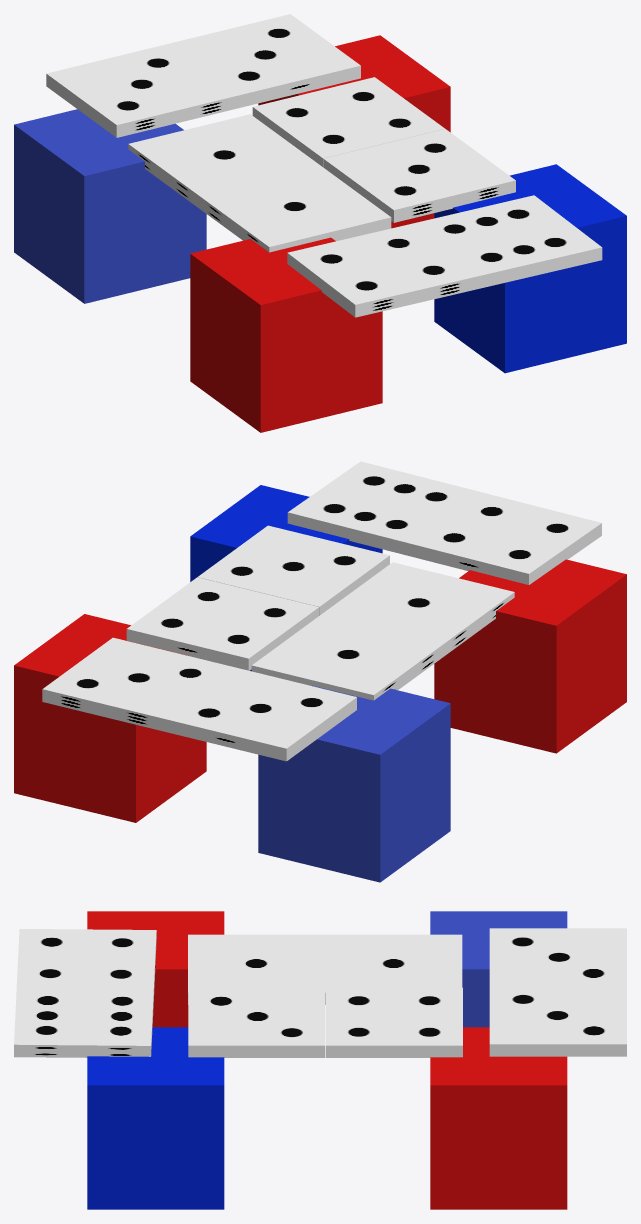
The model's file is blocks_6.glb.
3 renders of one model, top to bottom at view 1: azimuth 30°, elevation 25°; view 2: azimuth 150°, elevation 25°; view 3: azimuth 270°, elevation 25°, orthographic. The views are drawn at different scales.
Parts seen in each view (by area): view 1: Cube.008, Cube.010, Cube.009, Cube.004, Cube.002, Cube.006, Cube, Cube.001, Cube.003, Cube.005, Cube.007, Cube.011; view 2: Cube.010, Cube.008, Cube.011, Cube.004, Cube.002, Cube.007, Cube.003, Cube.005, Cube.001, Cube, Cube.006, Cube.009; view 3: Cube.009, Cube.011, Cube.003, Cube.006, Cube.001, Cube.007, Cube.004, Cube.002, Cube, Cube.005, Cube.008, Cube.010.
Part boxes in pixels (x1,y1,x2,y2): Cube.008: (190, 237, 382, 432); Cube.010: (14, 109, 206, 303); Cube.009: (434, 164, 626, 373); Cube.004: (46, 44, 238, 137); Cube.002: (287, 224, 478, 317); Cube.006: (323, 129, 515, 222); Cube: (198, 165, 391, 252); Cube.001: (411, 195, 602, 288); Cube.003: (168, 14, 360, 107); Cube.005: (128, 114, 320, 207); Cube.007: (252, 77, 444, 166); Cube.011: (258, 35, 450, 228); Cube.010: (258, 685, 450, 882); Cube.008: (434, 559, 626, 753); Cube.011: (14, 614, 206, 822); Cube.004: (164, 667, 356, 761); Cube.002: (408, 492, 601, 584); Cube.007: (126, 577, 319, 670); Cube.003: (42, 637, 234, 731); Cube.005: (251, 614, 444, 700); Cube.001: (287, 461, 480, 555); Cube: (322, 562, 514, 655); Cube.006: (197, 525, 389, 615); Cube.009: (190, 485, 382, 671); Cube.009: (87, 1027, 224, 1209); Cube.011: (430, 1027, 567, 1209); Cube.003: (489, 986, 626, 1056); Cube.006: (188, 987, 325, 1057); Cube.001: (14, 987, 153, 1057); Cube.007: (326, 987, 462, 1057); Cube.004: (489, 928, 626, 986); Cube.002: (16, 929, 156, 993); Cube: (188, 934, 325, 1004); Cube.005: (325, 934, 462, 1004); Cube.008: (87, 911, 224, 1027); Cube.010: (430, 911, 567, 1027).
Size of the model in its own units: 6 by 2.21 by 8.94.
5 materials, 1 textured.
